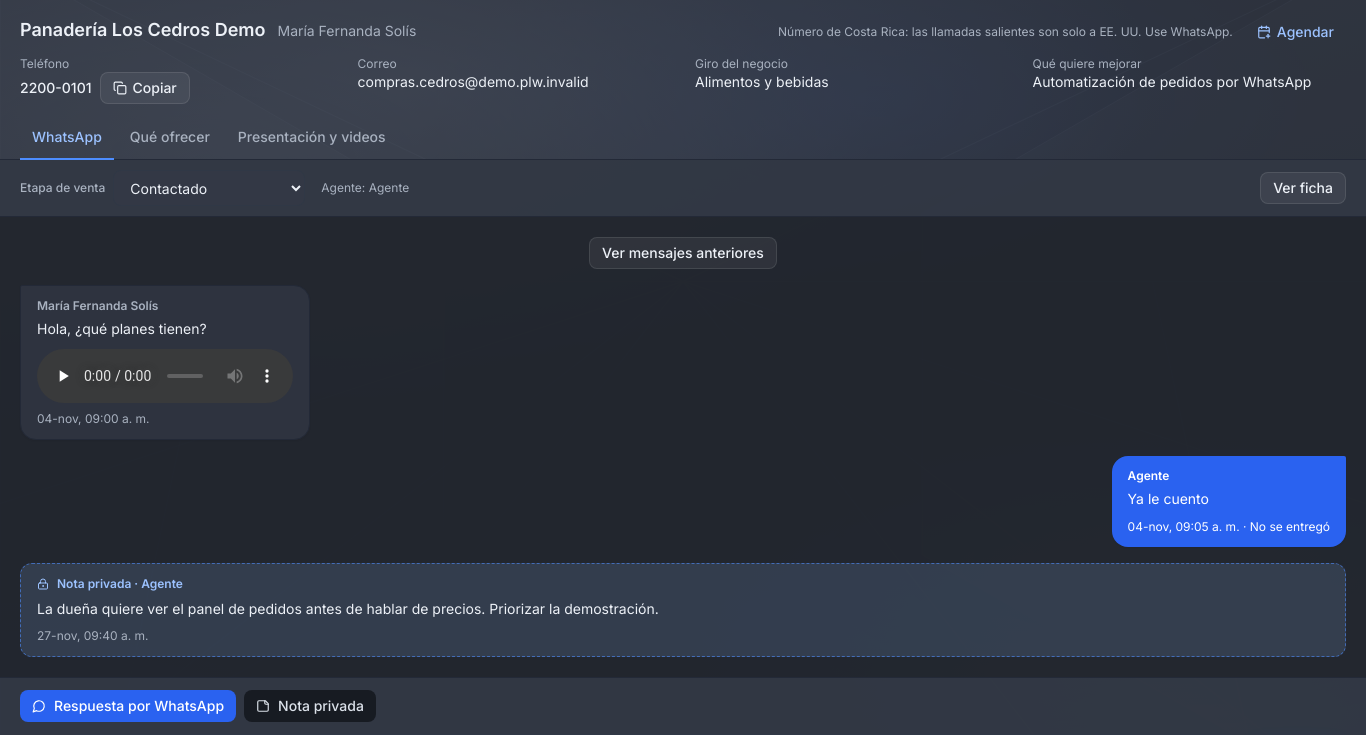
Test: a long chat starts at the newest messages and the agent can go back to its beginning
Expected: the text "Hola, ¿qué planes tienen?" is shown, [37,320,207,337]
Expected: the text "Buenas, vi su anuncio en Facebook" is not shown
Click the button "Ver mensajes anteriores" at (683, 253), box [589,237,777,269]
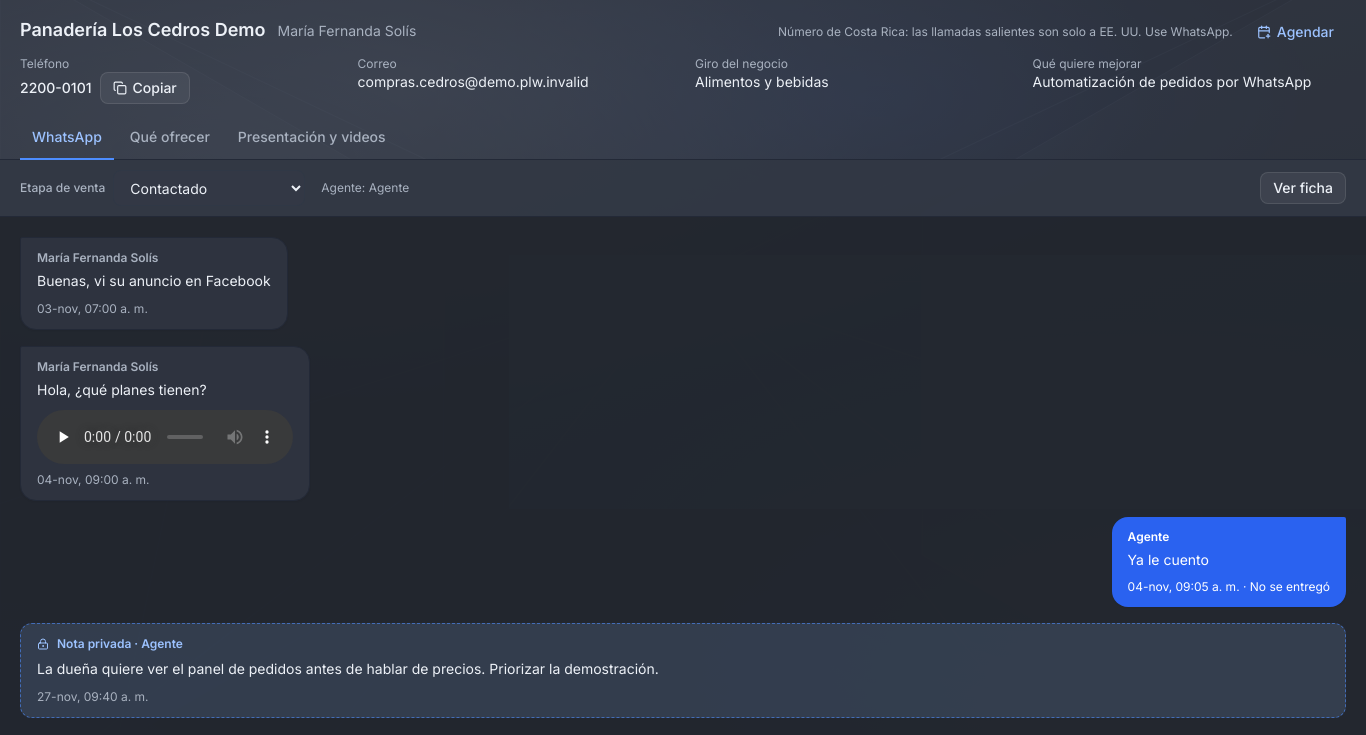
Expected: the text "Buenas, vi su anuncio en Facebook" is shown, [37,270,271,293]
Expected: the button "Ver mensajes anteriores" is gone
